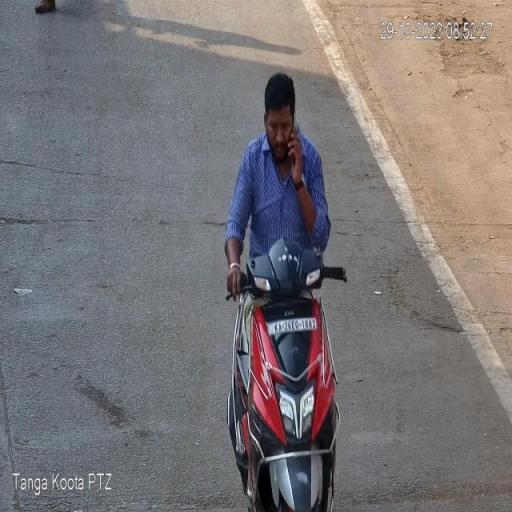using mobile: (290, 108, 304, 182)
